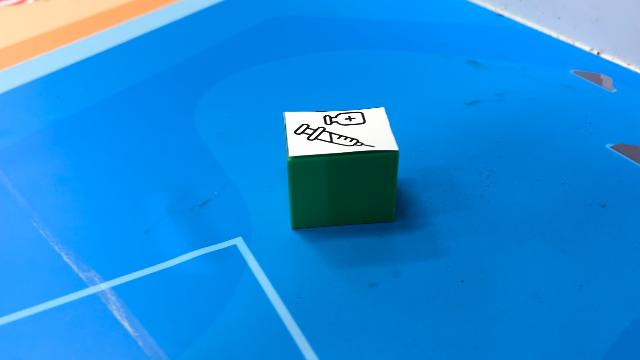syringe: (286, 106, 400, 228)
